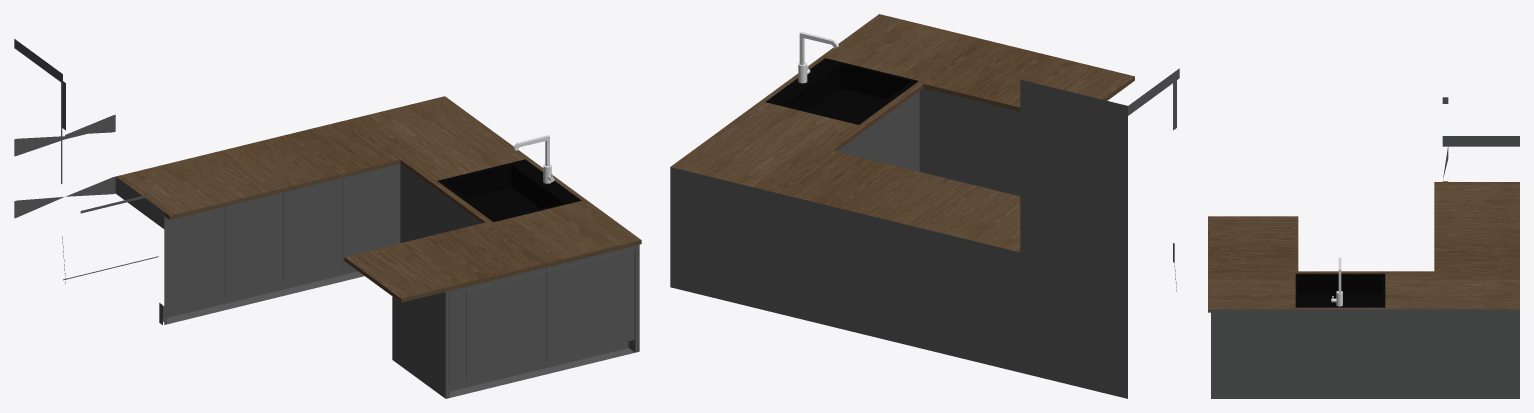
Rendered from countersandsink.glb.
3 views of the same model, side by side, from view 1: azimuth 30°, elevation 25°; view 2: azimuth 150°, elevation 25°; view 3: azimuth 270°, elevation 25° (orthographic). The views are drawn at different scales.
Parts seen in each view (by area): view 1: bar, Barlong, Sink; view 2: bar, Barlong, Sink, faucet; view 3: bar, Barlong, Sink.
Boxes of the visible parts, x1,y1,x2,y2 form: bar: [14, 39, 639, 398]; Barlong: [116, 96, 641, 302]; Sink: [437, 159, 581, 221]; bar: [670, 68, 1179, 398]; Barlong: [670, 14, 1134, 252]; Sink: [765, 58, 918, 124]; faucet: [798, 32, 838, 83]; bar: [1208, 97, 1519, 398]; Barlong: [1208, 182, 1519, 309]; Sink: [1295, 273, 1385, 307].
Size of the model in its own units: 125 by 76.71 by 99.2.
4 materials, 2 textured.
